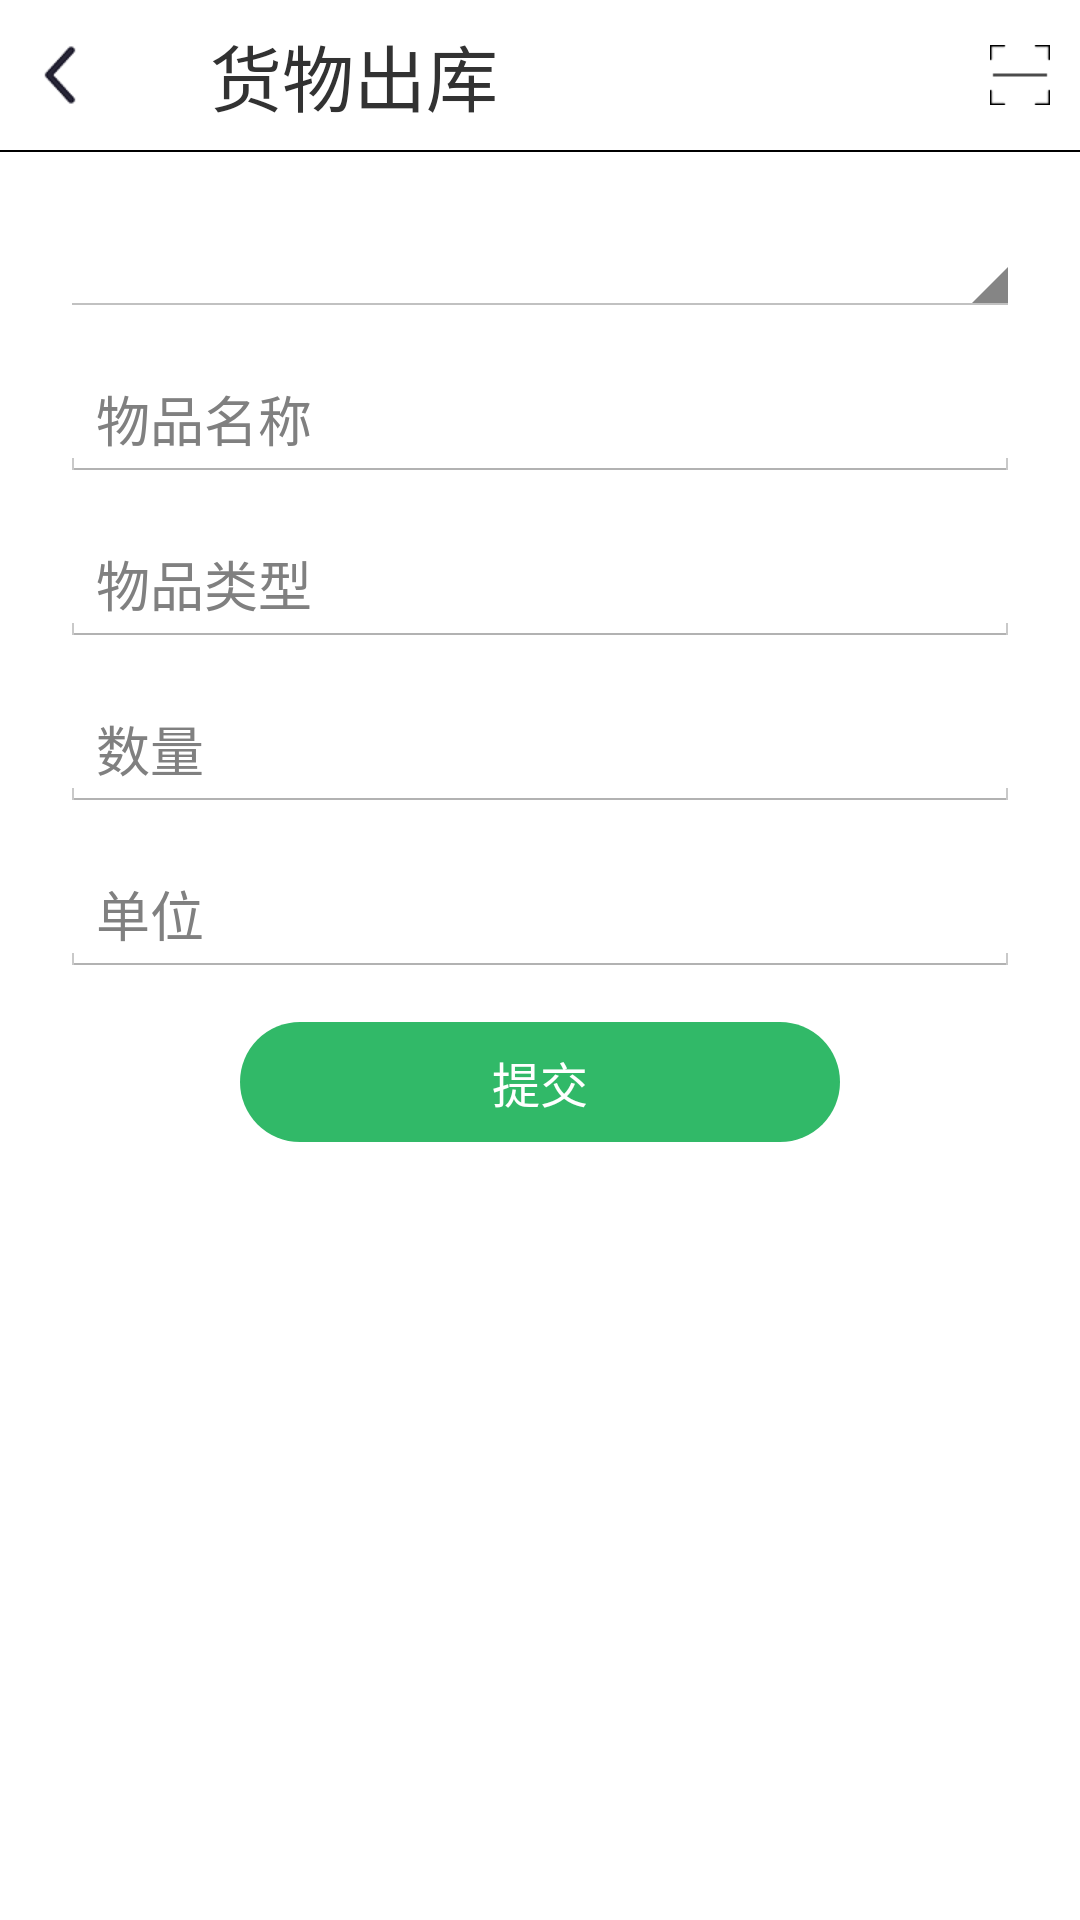

Screen size 1080px x 1920px. Icon name, then its center in pixels as (x,y):
arrow back: (60,75)
saoma: (1020,75)
